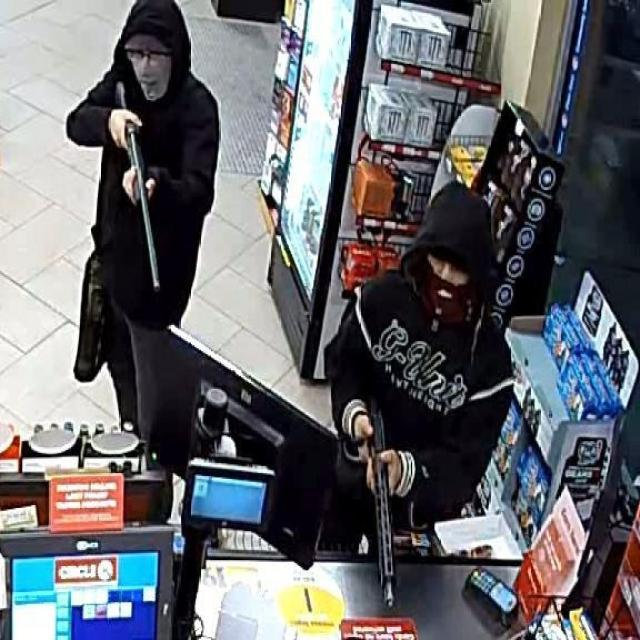gun: (113, 81, 161, 294), (370, 399, 394, 607)
